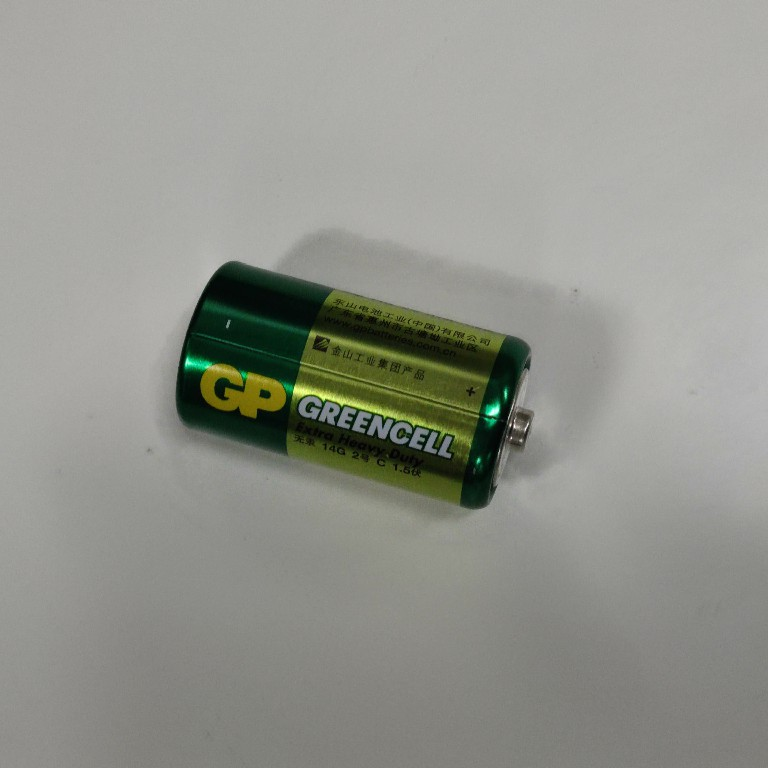charge: (169, 255, 541, 514)
